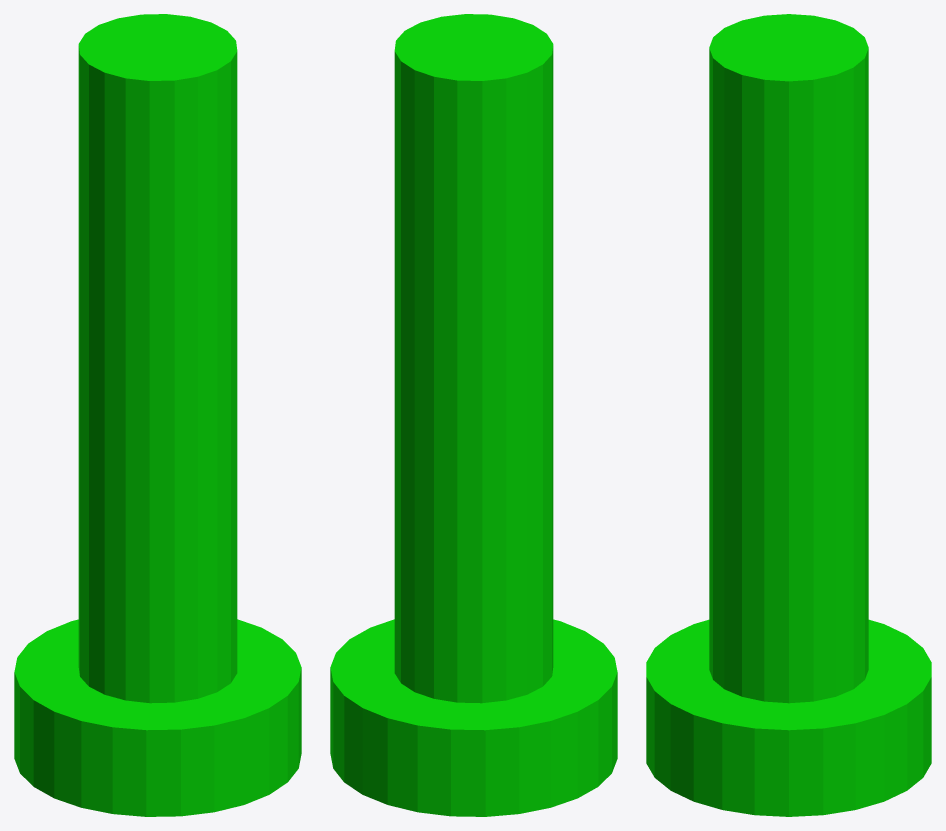
Rendered from green_marker_can.dae.
The picture shows the model from 3 angles, left to right: view 1: azimuth 30°, elevation 25°; view 2: azimuth 150°, elevation 25°; view 3: azimuth 270°, elevation 25°; orthographic projection.
Visible parts, largest first — view 1: ShapeIndexedFaceSet; view 2: ShapeIndexedFaceSet; view 3: ShapeIndexedFaceSet.
Part boxes in pixels (x1,y1,x2,y2): ShapeIndexedFaceSet: (14, 14, 301, 816); ShapeIndexedFaceSet: (330, 14, 617, 816); ShapeIndexedFaceSet: (646, 14, 931, 816).
Size of the model in its own units: 0.4572 by 0.4539 by 1.24.
